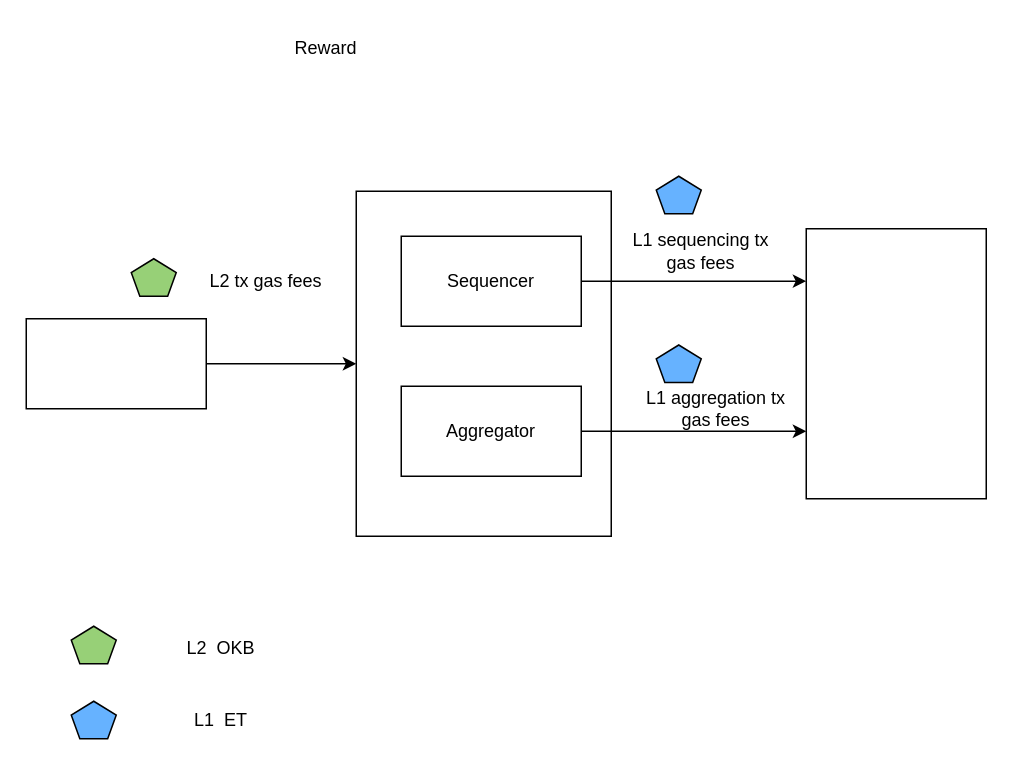
This 1013x768 diagram has some shape labels left out. The shapes that lost their labels are listed below. From the top down, each one's centre as x and y in pixels, then its label:
At (115,363): "L2 Users".
At (895,363): "L1 zkEVM.sol".
